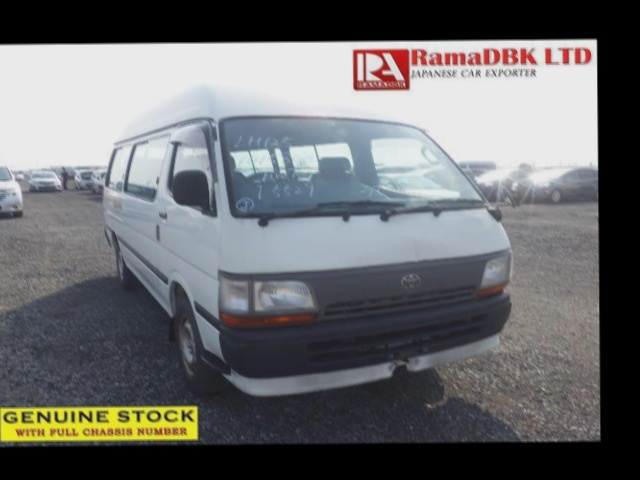van: (92, 86, 516, 391)
